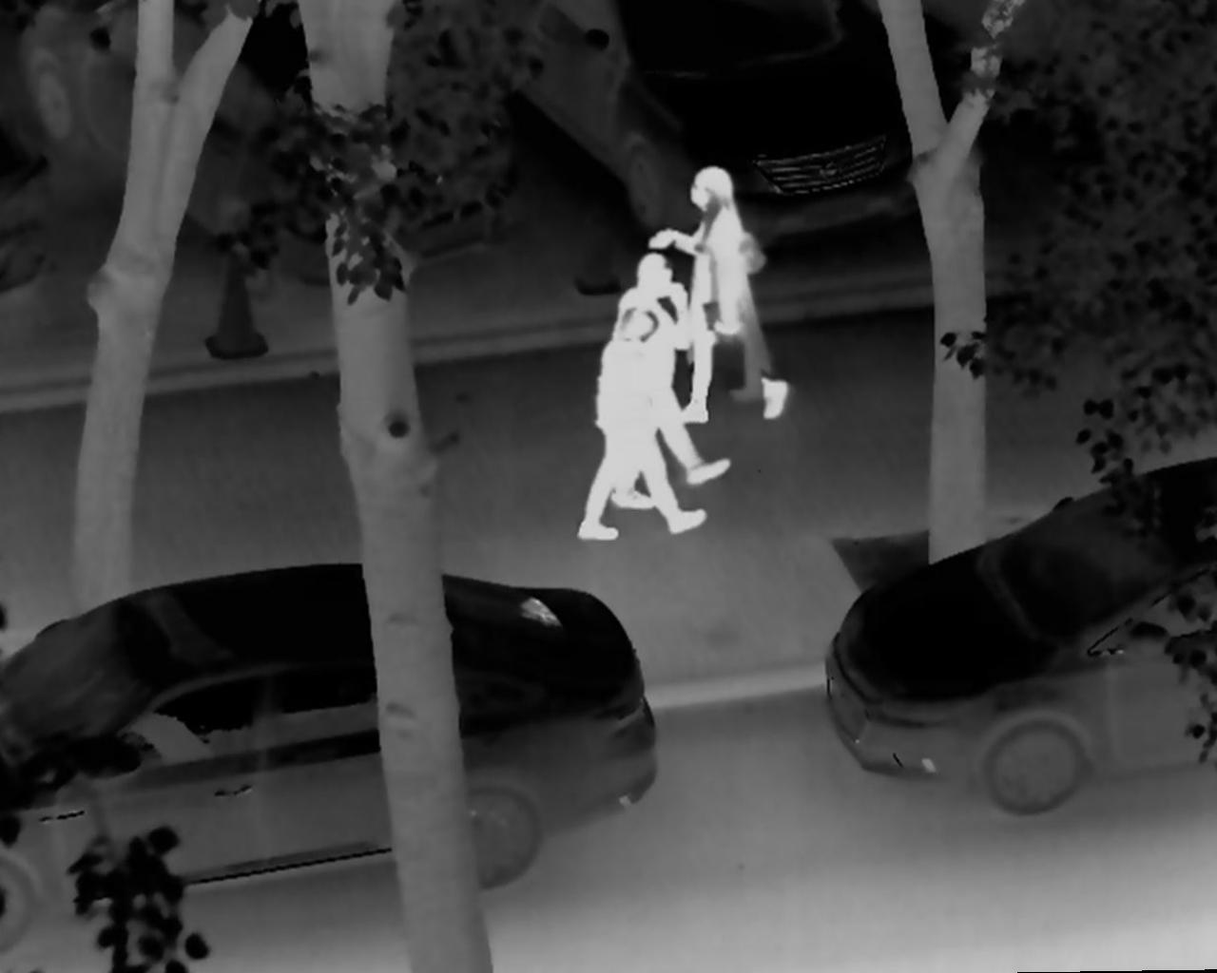person: (641, 160, 792, 429), (598, 249, 735, 516), (573, 308, 708, 543)
